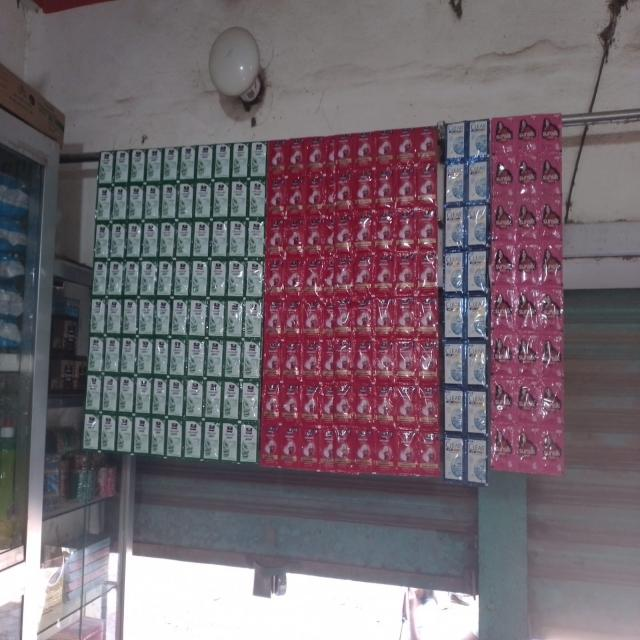non-ubl: (353, 379, 377, 425), (374, 431, 398, 475), (416, 382, 439, 424), (394, 294, 418, 333), (354, 426, 376, 468), (417, 296, 438, 340), (332, 295, 354, 337), (417, 429, 437, 475), (394, 382, 414, 428), (373, 381, 396, 420), (394, 428, 415, 470), (281, 337, 302, 379), (260, 376, 280, 420), (353, 338, 375, 378), (415, 339, 438, 376), (415, 205, 438, 241), (263, 337, 283, 378), (301, 424, 321, 464), (264, 256, 284, 296), (395, 338, 416, 376), (280, 426, 301, 464), (304, 254, 322, 298), (415, 124, 439, 157), (286, 174, 306, 212), (416, 249, 434, 291), (353, 253, 374, 289), (225, 337, 242, 381), (264, 303, 284, 340), (187, 337, 204, 380), (170, 298, 189, 336), (168, 336, 186, 376), (152, 376, 169, 418), (187, 377, 204, 418), (246, 257, 263, 298), (374, 294, 392, 332), (303, 336, 321, 374), (376, 250, 393, 290), (206, 338, 223, 378), (116, 412, 132, 454), (245, 297, 261, 339), (335, 338, 354, 373), (260, 423, 277, 462), (222, 380, 239, 419), (304, 380, 320, 421), (267, 215, 283, 256), (243, 338, 259, 379), (194, 222, 212, 258), (336, 214, 355, 248), (205, 381, 222, 419), (191, 260, 208, 298), (286, 254, 302, 294), (240, 424, 256, 464), (185, 420, 201, 460), (241, 382, 257, 422), (213, 179, 229, 219), (84, 414, 102, 449), (230, 182, 248, 217), (232, 141, 250, 176), (283, 381, 299, 420), (285, 219, 302, 255), (286, 302, 303, 338), (165, 422, 183, 456), (249, 180, 266, 216), (307, 171, 323, 209), (203, 422, 219, 460), (167, 378, 183, 416), (248, 219, 264, 257), (145, 182, 160, 222), (162, 180, 177, 220), (87, 336, 103, 373), (136, 336, 152, 373), (87, 373, 102, 412), (210, 258, 225, 297), (305, 215, 322, 249), (148, 148, 165, 182), (334, 426, 352, 458), (266, 174, 282, 210), (103, 376, 119, 412), (155, 299, 171, 335), (228, 260, 244, 296), (214, 142, 232, 174), (149, 414, 163, 455), (323, 250, 338, 288), (196, 182, 211, 220), (191, 301, 208, 334), (113, 150, 130, 183), (335, 253, 351, 288), (395, 172, 415, 200), (155, 336, 169, 376), (140, 299, 156, 334), (90, 298, 106, 333), (127, 224, 143, 259), (335, 173, 353, 204), (122, 337, 137, 374), (141, 259, 156, 296), (304, 297, 320, 331), (356, 171, 373, 203), (132, 416, 148, 450), (178, 222, 194, 256), (142, 224, 158, 258), (132, 148, 148, 182), (397, 124, 415, 154), (136, 378, 151, 414), (124, 298, 139, 334), (108, 298, 123, 334), (173, 260, 188, 296), (103, 337, 118, 372), (227, 298, 240, 338), (95, 220, 108, 260), (158, 259, 172, 296), (252, 139, 266, 176), (209, 300, 225, 332), (198, 147, 214, 179), (101, 416, 116, 450), (99, 151, 114, 185), (322, 336, 335, 375), (418, 158, 436, 186), (125, 260, 139, 296), (130, 183, 144, 219), (395, 261, 415, 286), (337, 131, 353, 162), (356, 296, 371, 329), (110, 223, 125, 256), (96, 187, 111, 220), (287, 139, 304, 168), (305, 137, 322, 166), (93, 258, 107, 293), (355, 213, 373, 240), (119, 374, 132, 411), (322, 380, 334, 420), (378, 215, 393, 247), (357, 131, 373, 161), (222, 424, 237, 456), (396, 216, 415, 240), (109, 260, 122, 295), (231, 219, 244, 254), (377, 128, 391, 160), (161, 223, 175, 254), (164, 148, 178, 179), (214, 224, 227, 257), (182, 150, 196, 180), (180, 182, 191, 220), (268, 142, 284, 168), (323, 217, 335, 251), (324, 173, 336, 207), (114, 185, 125, 221), (376, 174, 391, 199), (323, 298, 333, 332), (335, 395, 351, 416)
ubl: (466, 389, 488, 434), (541, 426, 562, 472), (443, 207, 464, 251), (467, 344, 489, 384), (443, 254, 464, 294), (443, 301, 463, 343), (468, 440, 488, 481), (542, 160, 562, 201), (445, 439, 465, 480), (518, 248, 539, 287), (445, 392, 464, 435), (518, 160, 538, 200), (467, 201, 486, 243), (445, 346, 464, 388), (468, 297, 486, 339), (468, 251, 486, 293), (541, 118, 560, 157), (517, 337, 537, 374), (542, 251, 561, 289), (542, 204, 561, 242), (518, 205, 537, 243), (540, 294, 560, 330), (494, 249, 513, 286), (518, 385, 537, 421), (494, 429, 512, 467), (517, 293, 536, 329), (496, 162, 514, 200), (518, 432, 538, 466), (448, 122, 465, 162), (468, 162, 486, 199), (494, 383, 511, 422), (494, 292, 512, 328), (518, 120, 536, 156), (495, 121, 514, 155), (470, 120, 487, 158), (542, 340, 560, 375), (542, 386, 560, 419), (448, 169, 464, 205), (495, 207, 512, 240), (494, 338, 510, 371)
